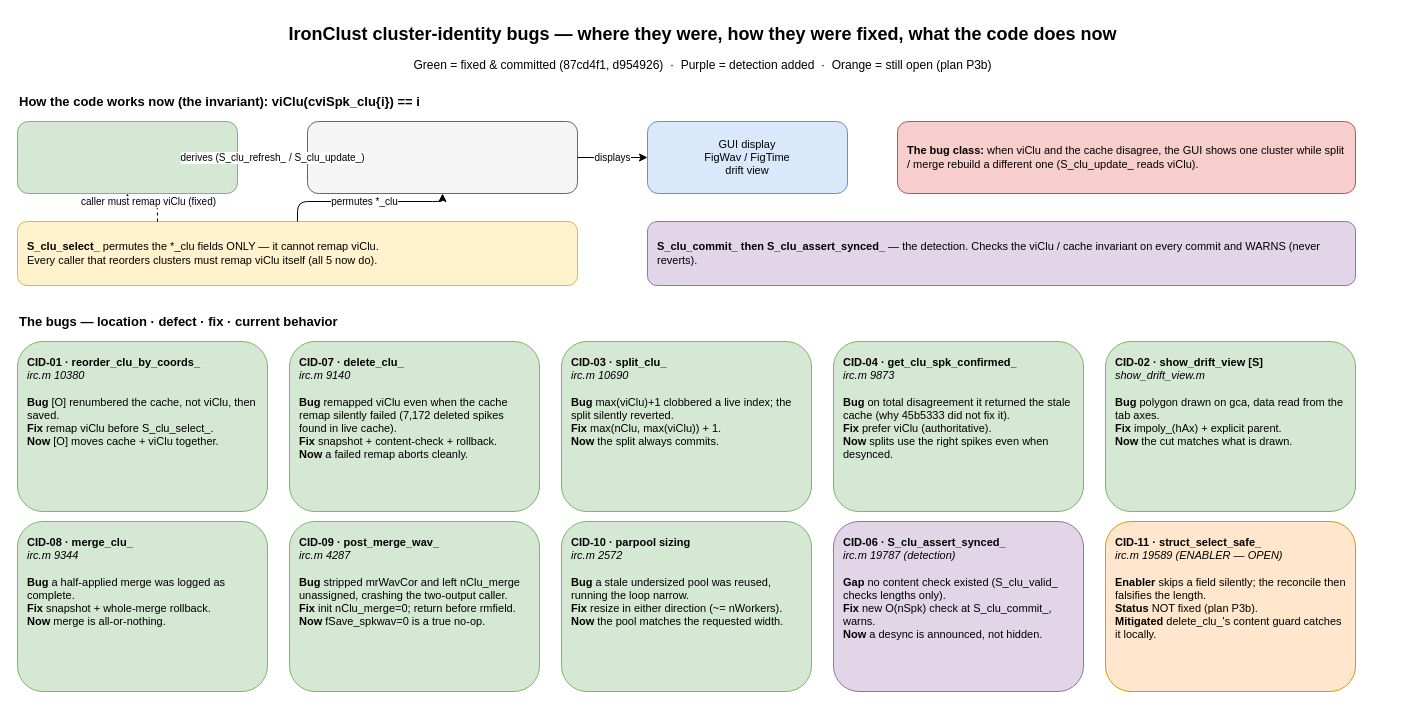
Image size: 1405x709. Some labels were removed from this diagram. The centre of each missing label's shape, as x and y in pixels:
"cviSpk_clu cache + viSite / vnSpk / pos satellites (what the GUI shows)" goes at (442,157).
"S_clu.viClu per-SPIKE labels AUTHORITATIVE" goes at (127,157).
